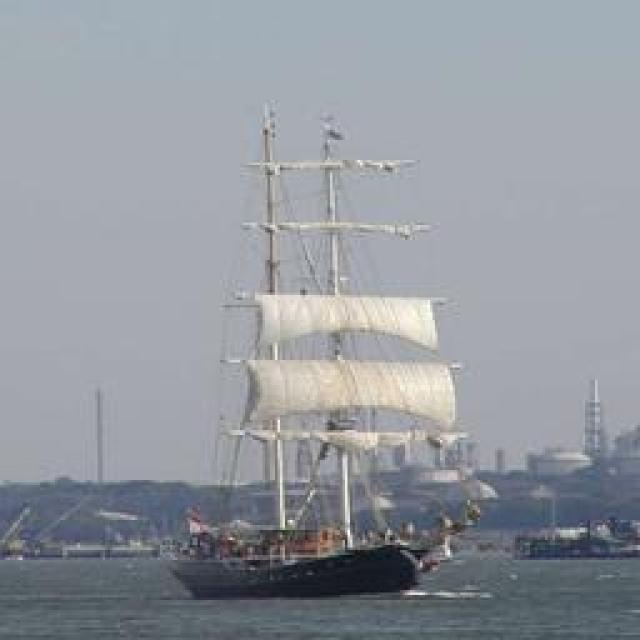CIV_Ship: (170, 538, 420, 600)
